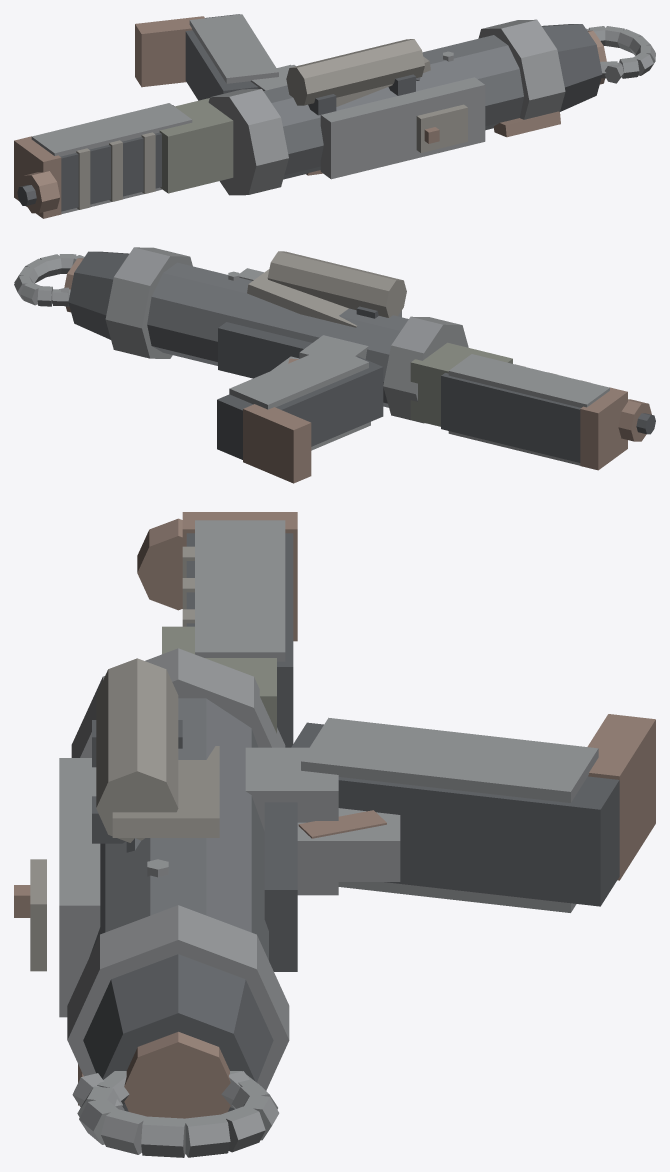
Rendered from frontline_maintainer_arcwelder_tool_v2.glb.
3 views of the same model, one above another, from view 1: azimuth 30°, elevation 25°; view 2: azimuth 150°, elevation 25°; view 3: azimuth 270°, elevation 25° (orthographic). The views are drawn at different scales.
Parts seen in each view (by area): view 1: top_plate, main_body, rear_collar, service_cartridge, rear_grip_connector, front_collar, pistol_grip_side_L, rear_handgrip_side_L, rear_handgrip, pistol_grip_base, nose_shroud, pistol_grip (+14 smaller); view 2: main_body, rear_handgrip, pistol_grip, service_cartridge, front_collar, pistol_grip_base, pistol_grip_side_L, rear_collar, rear_handgrip_side_L, under_plate, nose_shroud, rear_grip_cap (+5 smaller); view 3: pistol_grip, main_body, pistol_grip_side_L, nose_shroud, front_collar, rear_handgrip_side_L, service_cartridge, top_plate, arc_guard_ring, pistol_grip_base, rear_collar, pistol_grip_mount (+15 smaller).
Boxes of the visible parts, <box> form: top_plate: <box>320,77,485,179</box>; main_body: <box>263,35,523,179</box>; rear_collar: <box>208,89,288,195</box>; service_cartridge: <box>286,39,424,105</box>; rear_grip_connector: <box>159,98,233,193</box>; front_collar: <box>478,19,565,119</box>; pistol_grip_side_L: <box>189,14,278,83</box>; rear_handgrip_side_L: <box>31,103,192,156</box>; rear_handgrip: <box>60,105,174,211</box>; pistol_grip_base: <box>135,16,204,87</box>; nose_shroud: <box>542,24,602,111</box>; pistol_grip: <box>185,14,258,100</box>; main_body: <box>147,262,408,407</box>; rear_handgrip: <box>441,373,580,462</box>; pistol_grip: <box>217,356,383,459</box>; service_cartridge: <box>267,251,406,317</box>; front_collar: <box>105,247,192,358</box>; pistol_grip_base: <box>243,404,311,483</box>; pistol_grip_side_L: <box>229,346,368,409</box>; rear_collar: <box>383,316,468,423</box>; rear_handgrip_side_L: <box>448,354,609,407</box>; under_plate: <box>218,322,311,378</box>; nose_shroud: <box>68,251,129,339</box>; rear_grip_cap: <box>580,387,627,470</box>; pistol_grip: <box>291,722,619,906</box>; main_body: <box>90,698,268,960</box>; pistol_grip_side_L: <box>301,717,598,802</box>; nose_shroud: <box>83,954,273,1111</box>; front_collar: <box>67,905,289,1090</box>; rear_handgrip_side_L: <box>195,520,285,661</box>; service_cartridge: <box>96,658,178,842</box>; top_plate: <box>59,758,100,1017</box>; arc_guard_ring: <box>124,1031,230,1118</box>; pistol_grip_base: <box>587,714,655,880</box>; rear_collar: <box>71,648,285,757</box>; pistol_grip_mount: <box>245,747,338,895</box>.
Bounding box in the file's own units: 0.3451 × 0.065 × 0.1562.
